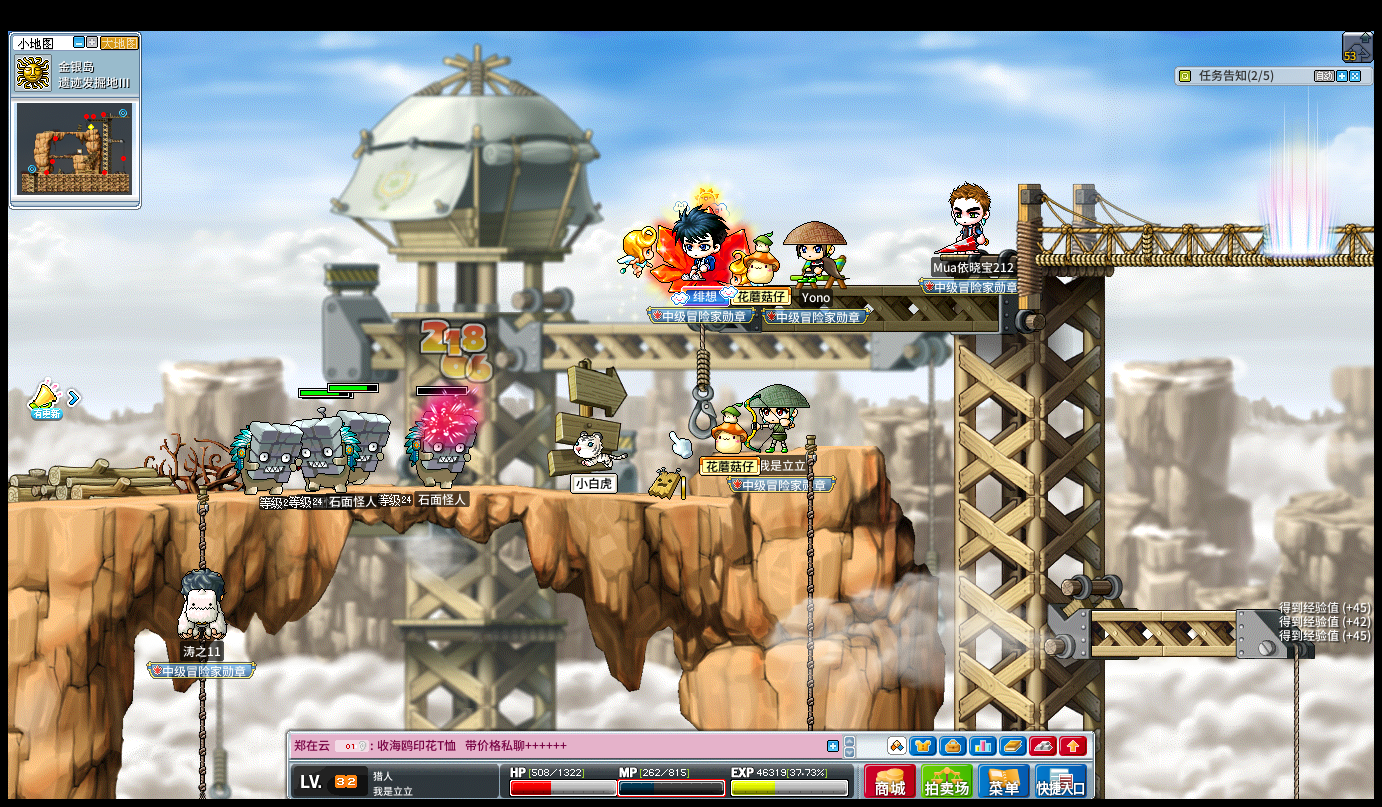floor: (81, 484, 754, 501), (35, 482, 780, 497), (1092, 606, 1294, 622)
monster: (403, 383, 478, 486), (300, 412, 383, 487), (229, 420, 293, 494), (294, 413, 356, 489), (354, 412, 391, 486)
rope: (802, 451, 817, 715), (1288, 651, 1303, 790), (195, 679, 207, 790), (196, 482, 208, 567)
